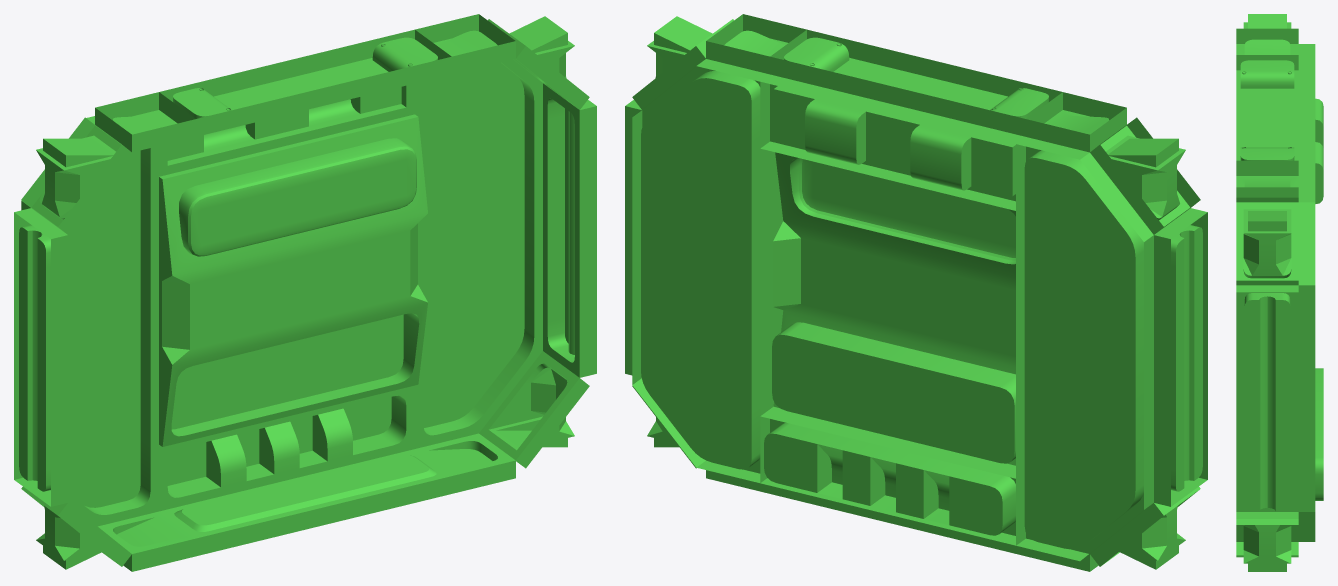
Rendered from CBig_Wall_End_A.FBX.
3 views of the same model, side by side, from view 1: azimuth 30°, elevation 25°; view 2: azimuth 150°, elevation 25°; view 3: azimuth 270°, elevation 25° (orthographic). The views are drawn at different scales.
Visible parts, largest first — view 1: CBig_Wall_End_A; view 2: CBig_Wall_End_A; view 3: CBig_Wall_End_A.
Part boxes in pixels (x1,y1,x2,y2): CBig_Wall_End_A: [14, 14, 596, 571]; CBig_Wall_End_A: [625, 14, 1207, 571]; CBig_Wall_End_A: [1236, 14, 1323, 571].
Size of the model in its own units: 640 by 490 by 105.
